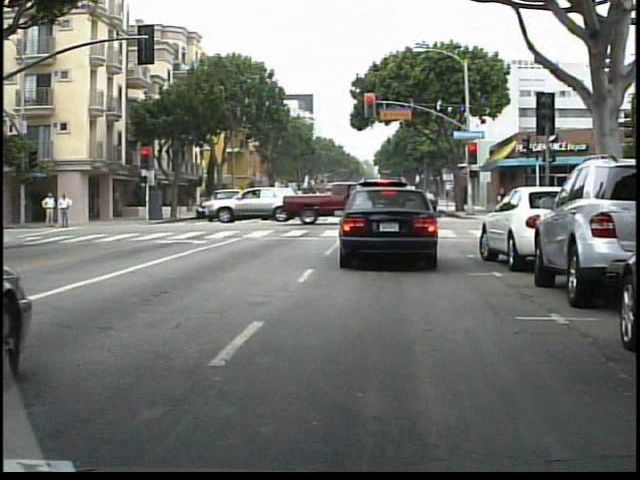person: (39, 189, 56, 231), (56, 191, 73, 231)
